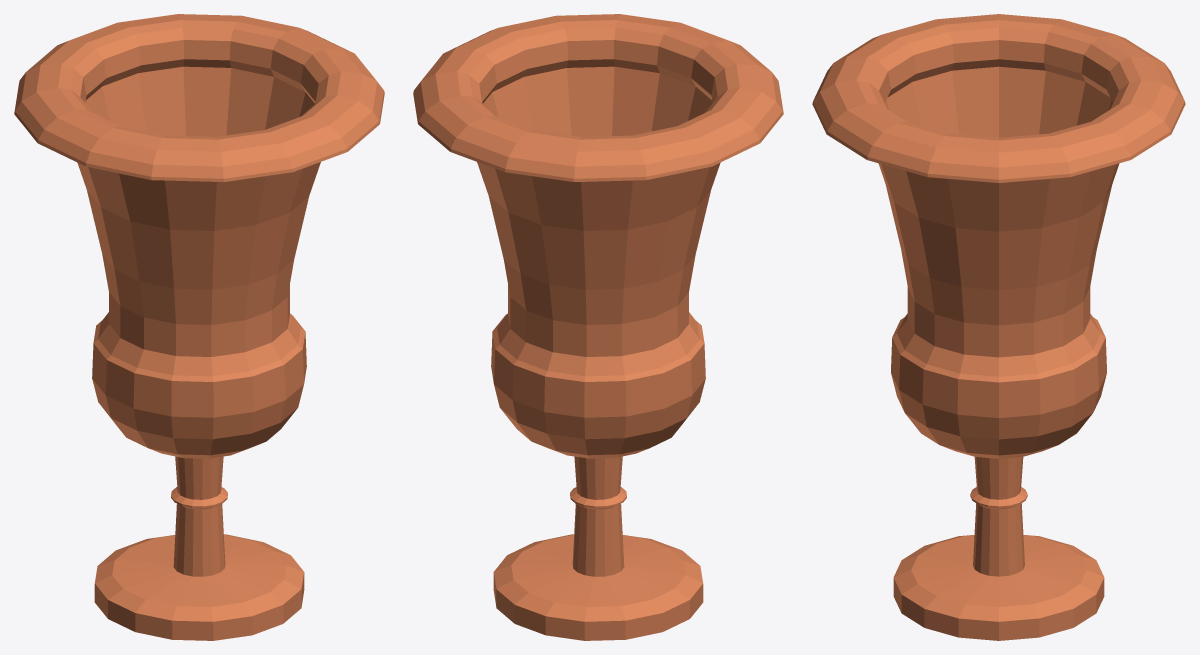
The model's file is pot_5_empty.fbx.
The picture shows the model from 3 angles, left to right: view 1: azimuth 30°, elevation 25°; view 2: azimuth 150°, elevation 25°; view 3: azimuth 270°, elevation 25°; orthographic projection.
Visible parts, largest first — view 1: pot_empty; view 2: pot_empty; view 3: pot_empty.
Part boxes in pixels (x1,y1,x2,y2): pot_empty: (14,14,384,640); pot_empty: (413,14,783,640); pot_empty: (812,14,1185,640).
Size of the model in its own units: 354 by 540 by 354.
